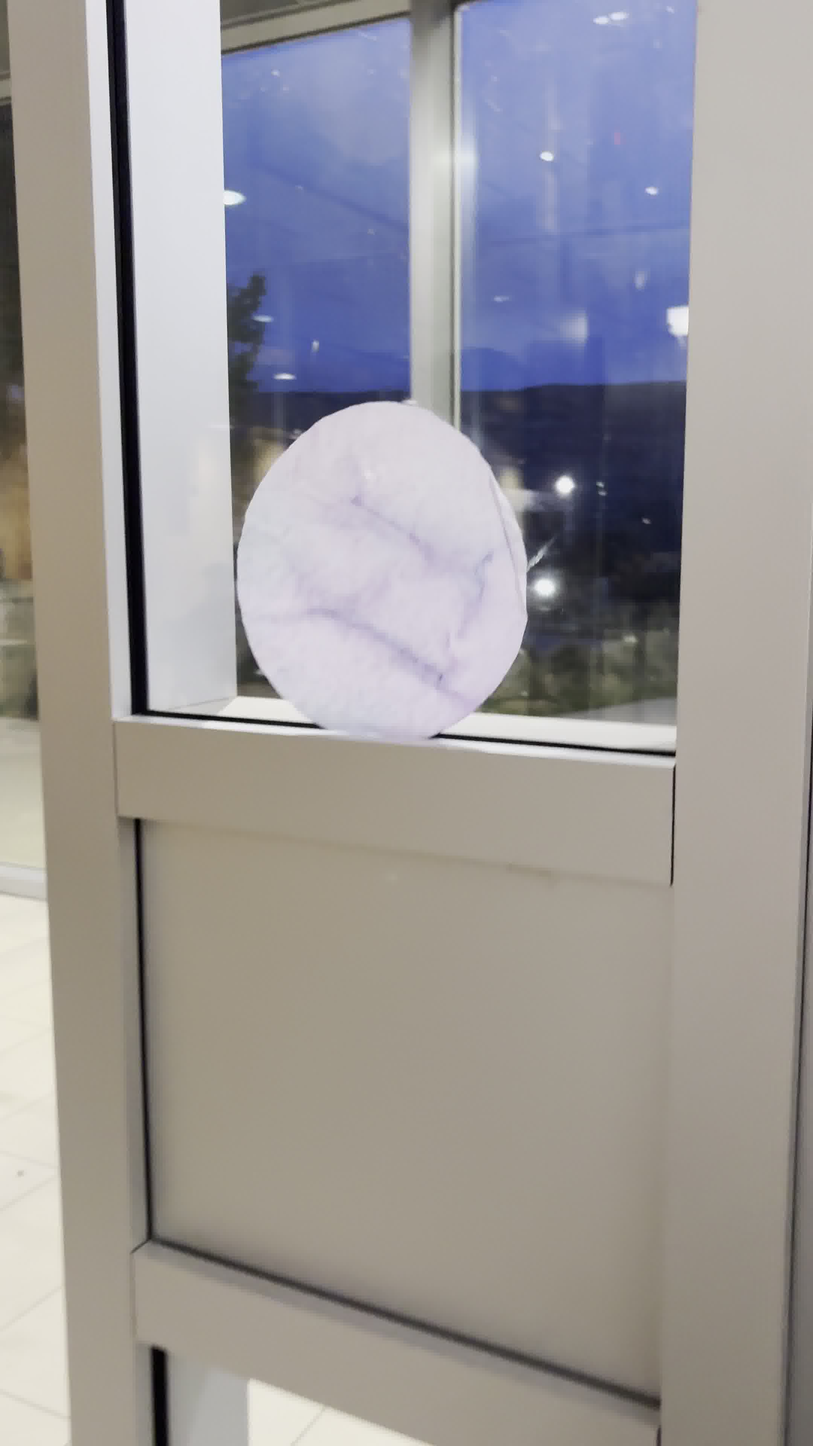Target: (232, 396, 530, 758)
